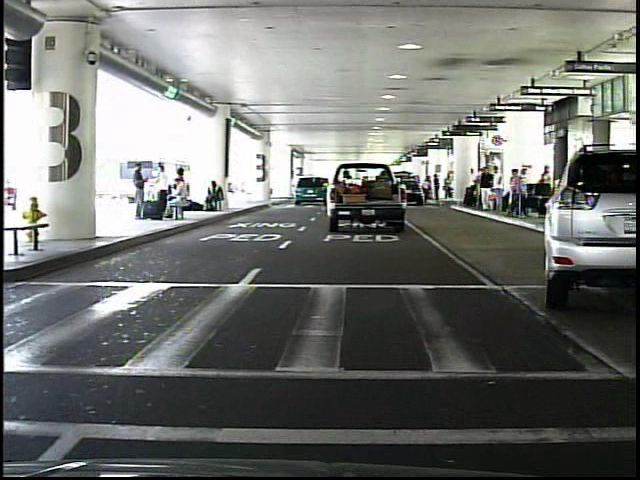person: (129, 161, 152, 224), (479, 167, 497, 217), (491, 165, 505, 217), (432, 172, 442, 203)
